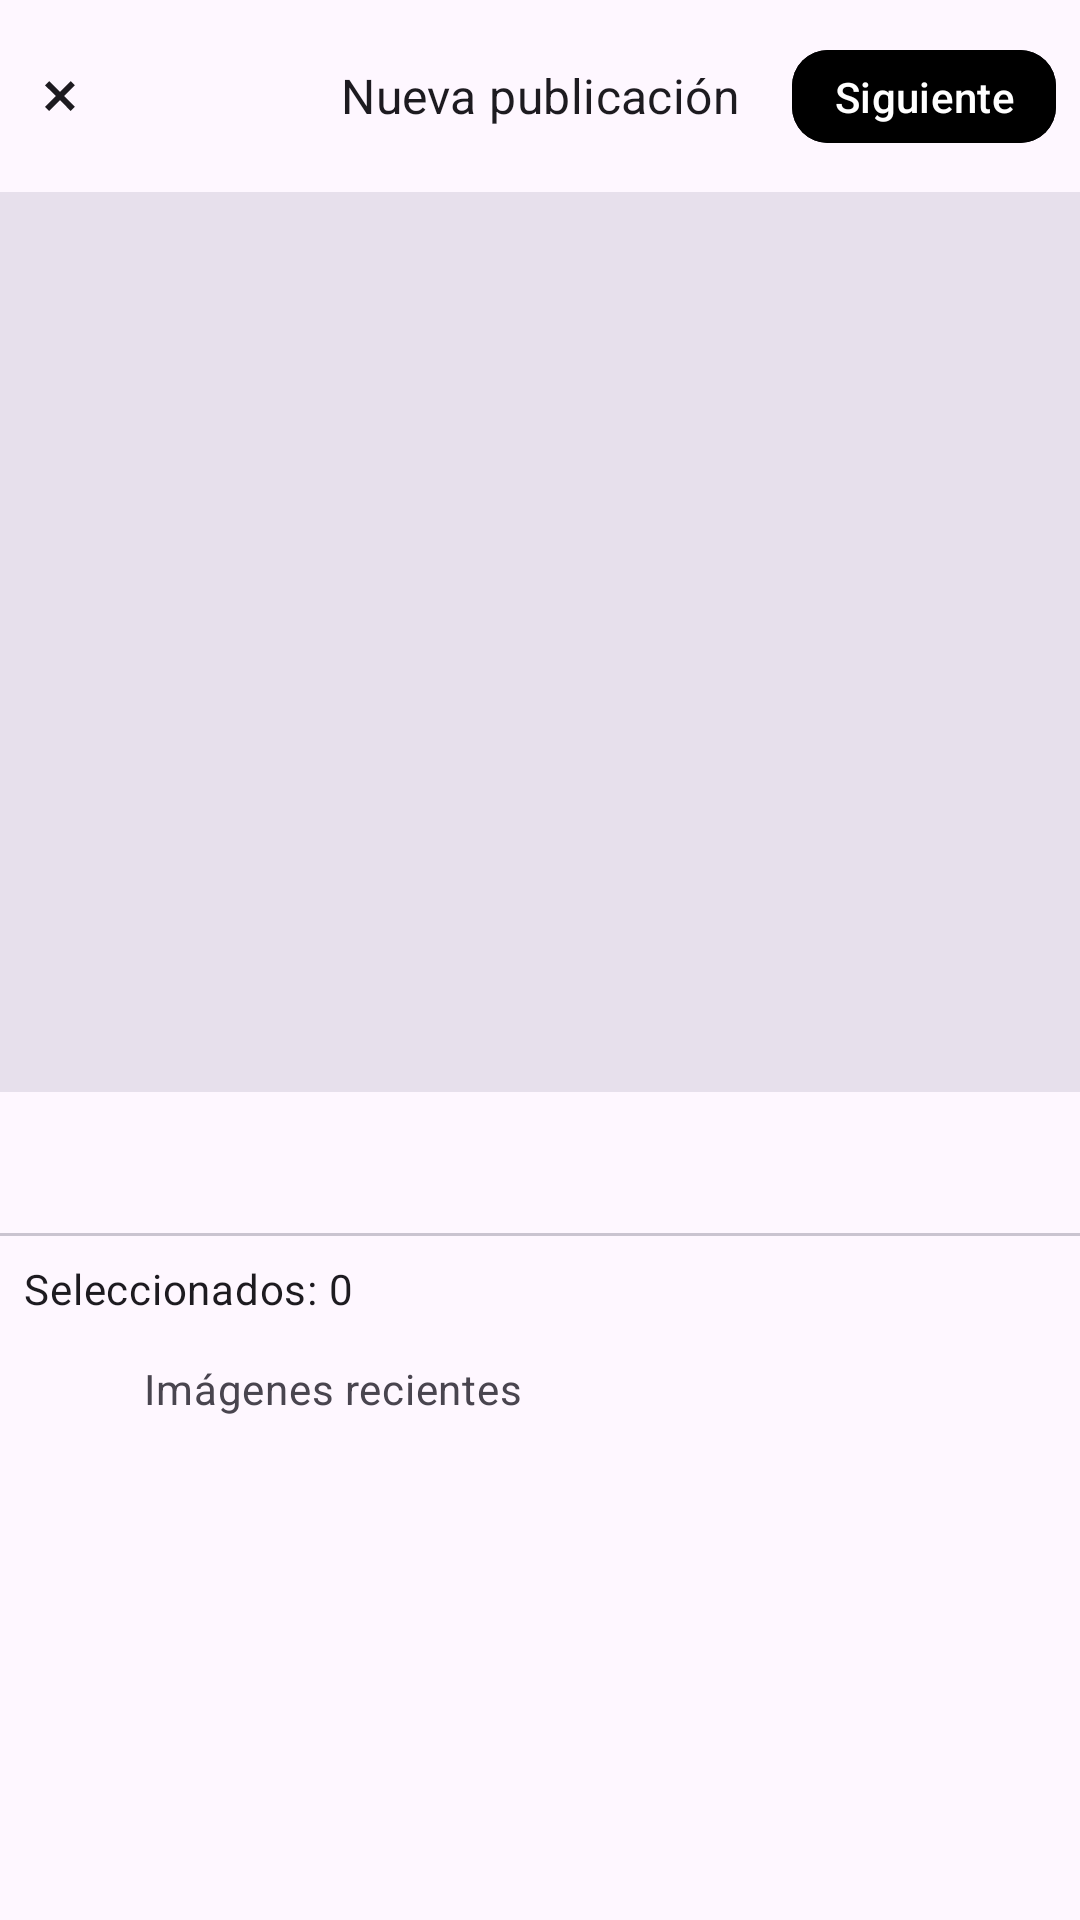

Where to tap for icons on this 1080px×1920px app screen, as point (x, y):
close: point (60, 96)
